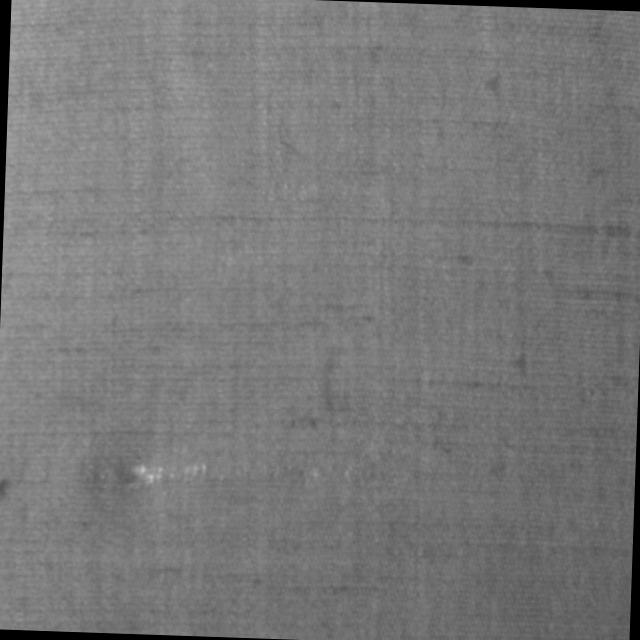thread error: (106, 440, 368, 509)
